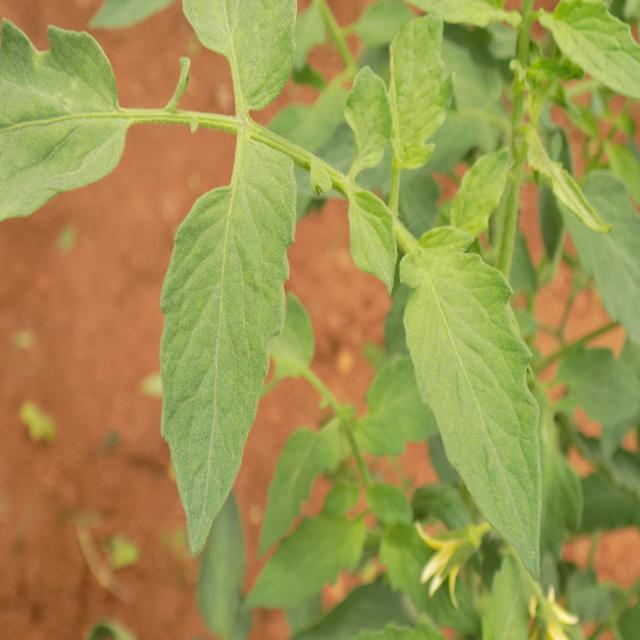tomato_healthy: (160, 130, 294, 554), (399, 214, 542, 583), (384, 5, 451, 177), (254, 423, 332, 557)
